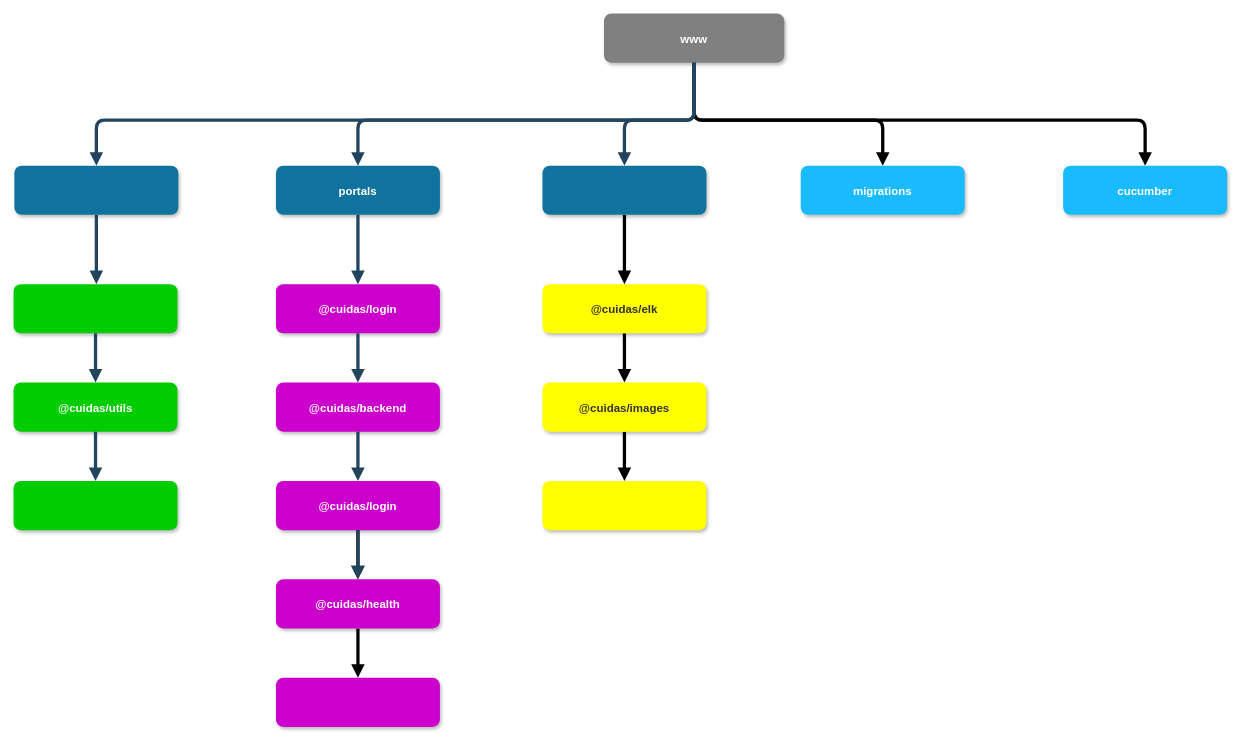
This 1241x740 diagram has some shape labels left out. The shapes that lost their labels are listed below. From the top down, each one's centre as x and y in pixels, then its label:
[97,191]: packages
[625,191]: serveless
[96,309]: @cuidas/token
[96,506]: @cuidas/ui
[625,506]: @cuidas/serveless*
[358,703]: @cuidas/admin
